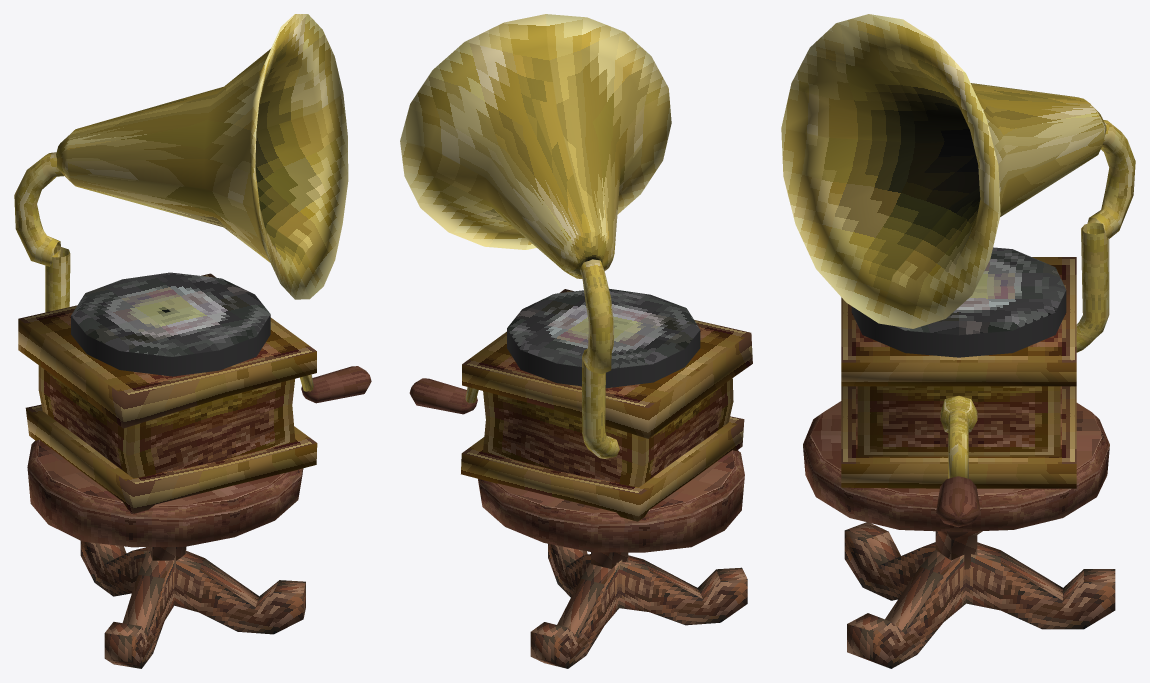
The model's file is phonograph.obj.
3 renders of one model, left to right at view 1: azimuth 30°, elevation 25°; view 2: azimuth 150°, elevation 25°; view 3: azimuth 270°, elevation 25°, orthographic. The views are drawn at different scales.
Parts seen in each view (by area): view 1: part1_texture1.005_part1_texture1.009; view 2: part1_texture1.005_part1_texture1.009; view 3: part1_texture1.005_part1_texture1.009.
Part boxes in pixels (left/top/right/bottom): part1_texture1.005_part1_texture1.009: left=14, top=14, right=371, bottom=668; part1_texture1.005_part1_texture1.009: left=400, top=14, right=752, bottom=668; part1_texture1.005_part1_texture1.009: left=781, top=14, right=1135, bottom=668.
Size of the model in its own units: 0.6209 by 1.08 by 0.5318.
6 materials, 6 textured.
